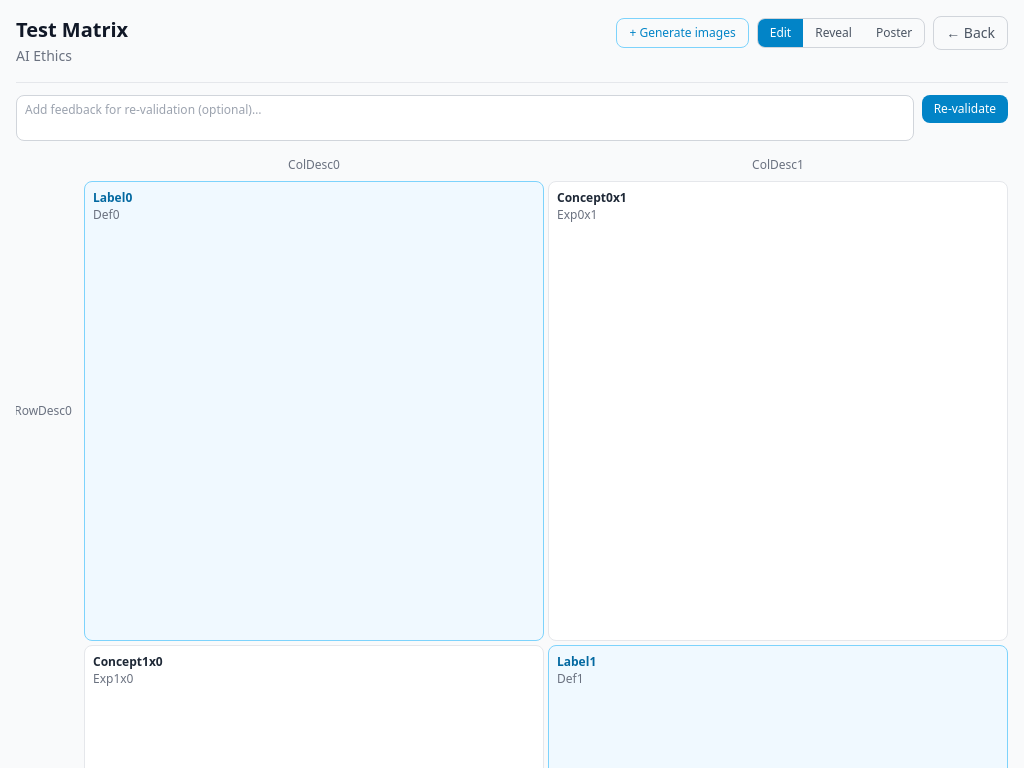
Test case: MatrixView — detail panel shows name and description › shows diagonal cell label as h3 heading in detail panel when selected
The image size is (1024, 768).
Click the text "Label0" at (113, 198), box [93, 189, 132, 206]
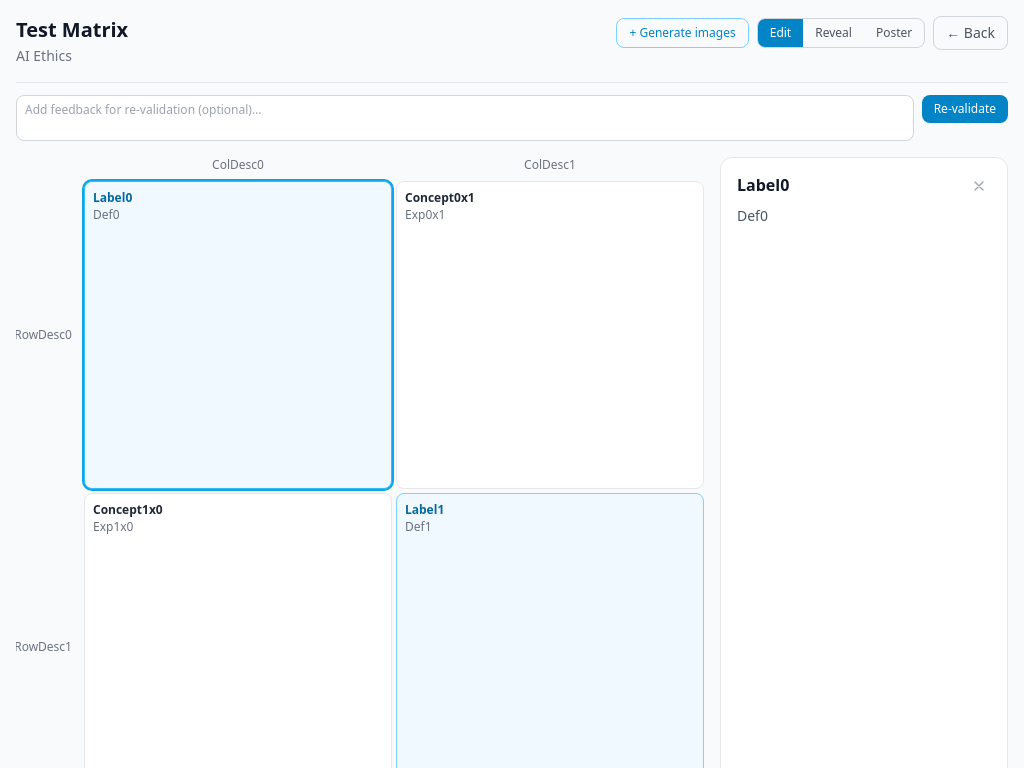
Now the heading "Label0" is shown, box [737, 174, 789, 196]
